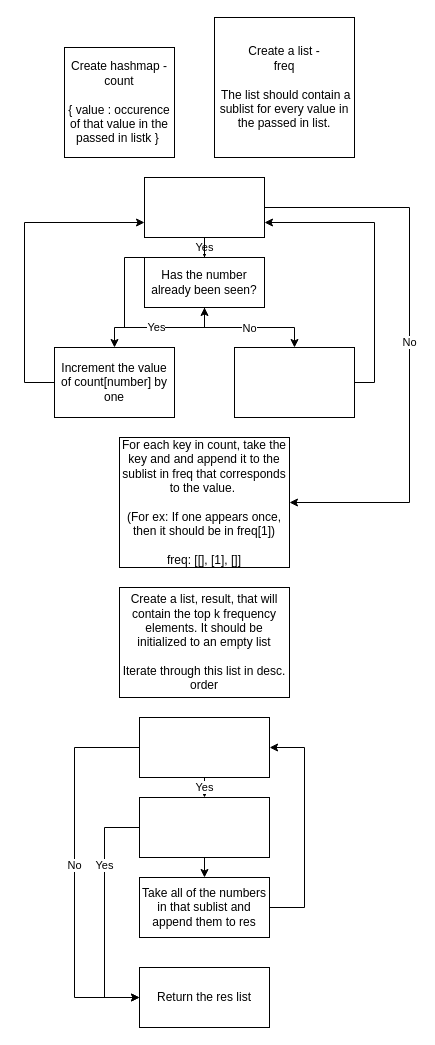
Image size: 435x1045. Some labels were removed from this diagram. Here are the shapes that lost their labels. From the top down, the centre of each, then its label:
[204,207]: Is there a number remaining?
[294,382]: Add the value of count[number] to the dictionary with an initial value of 0
[204,747]: Are there remaining sublists in freq?
[204,827]: Does the the length of the resulting list == k
